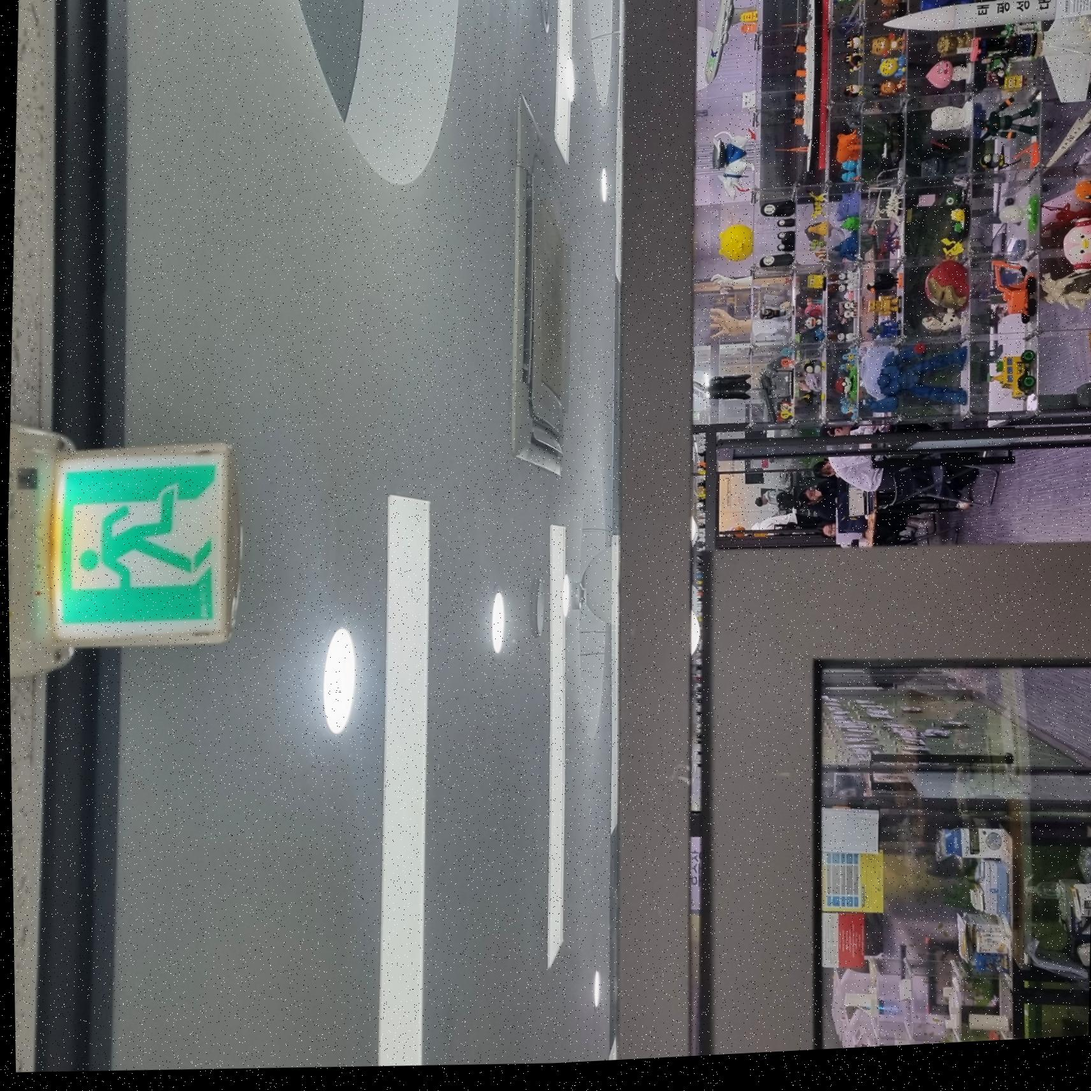emergency_exit: (46, 441, 238, 649)
